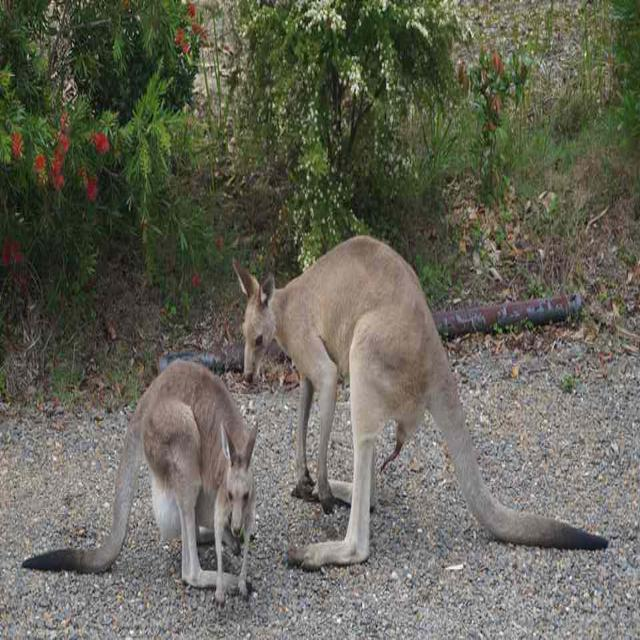kangaroo: (228, 232, 454, 567), (109, 365, 271, 589)
